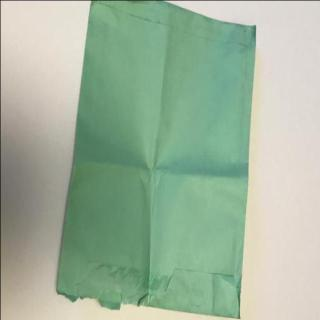Anorganik: (51, 0, 261, 320)
